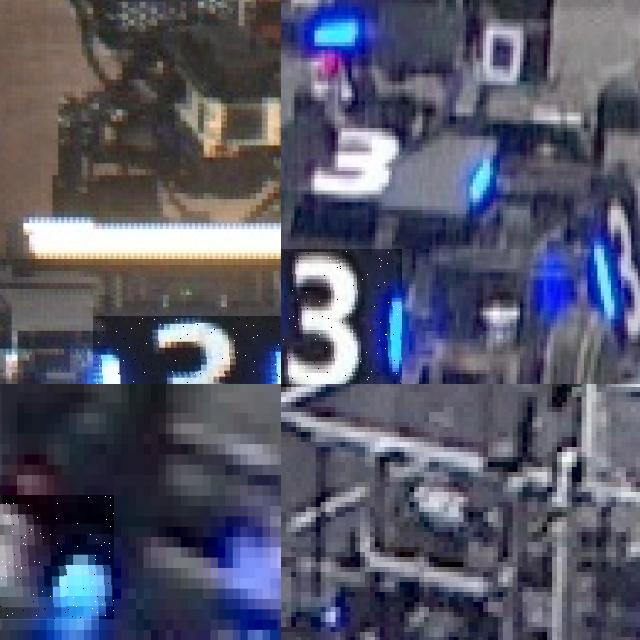B3: (281, 249, 402, 384), (0, 495, 113, 619), (93, 315, 281, 384)
